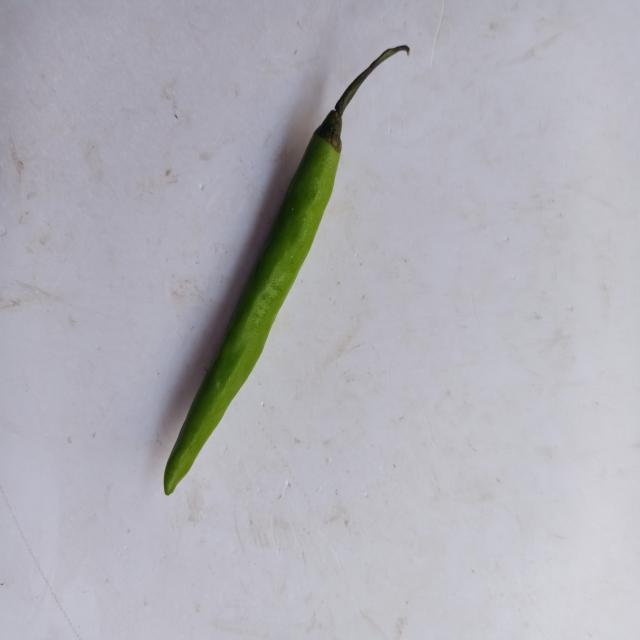Green Chilly: (163, 44, 410, 495)
